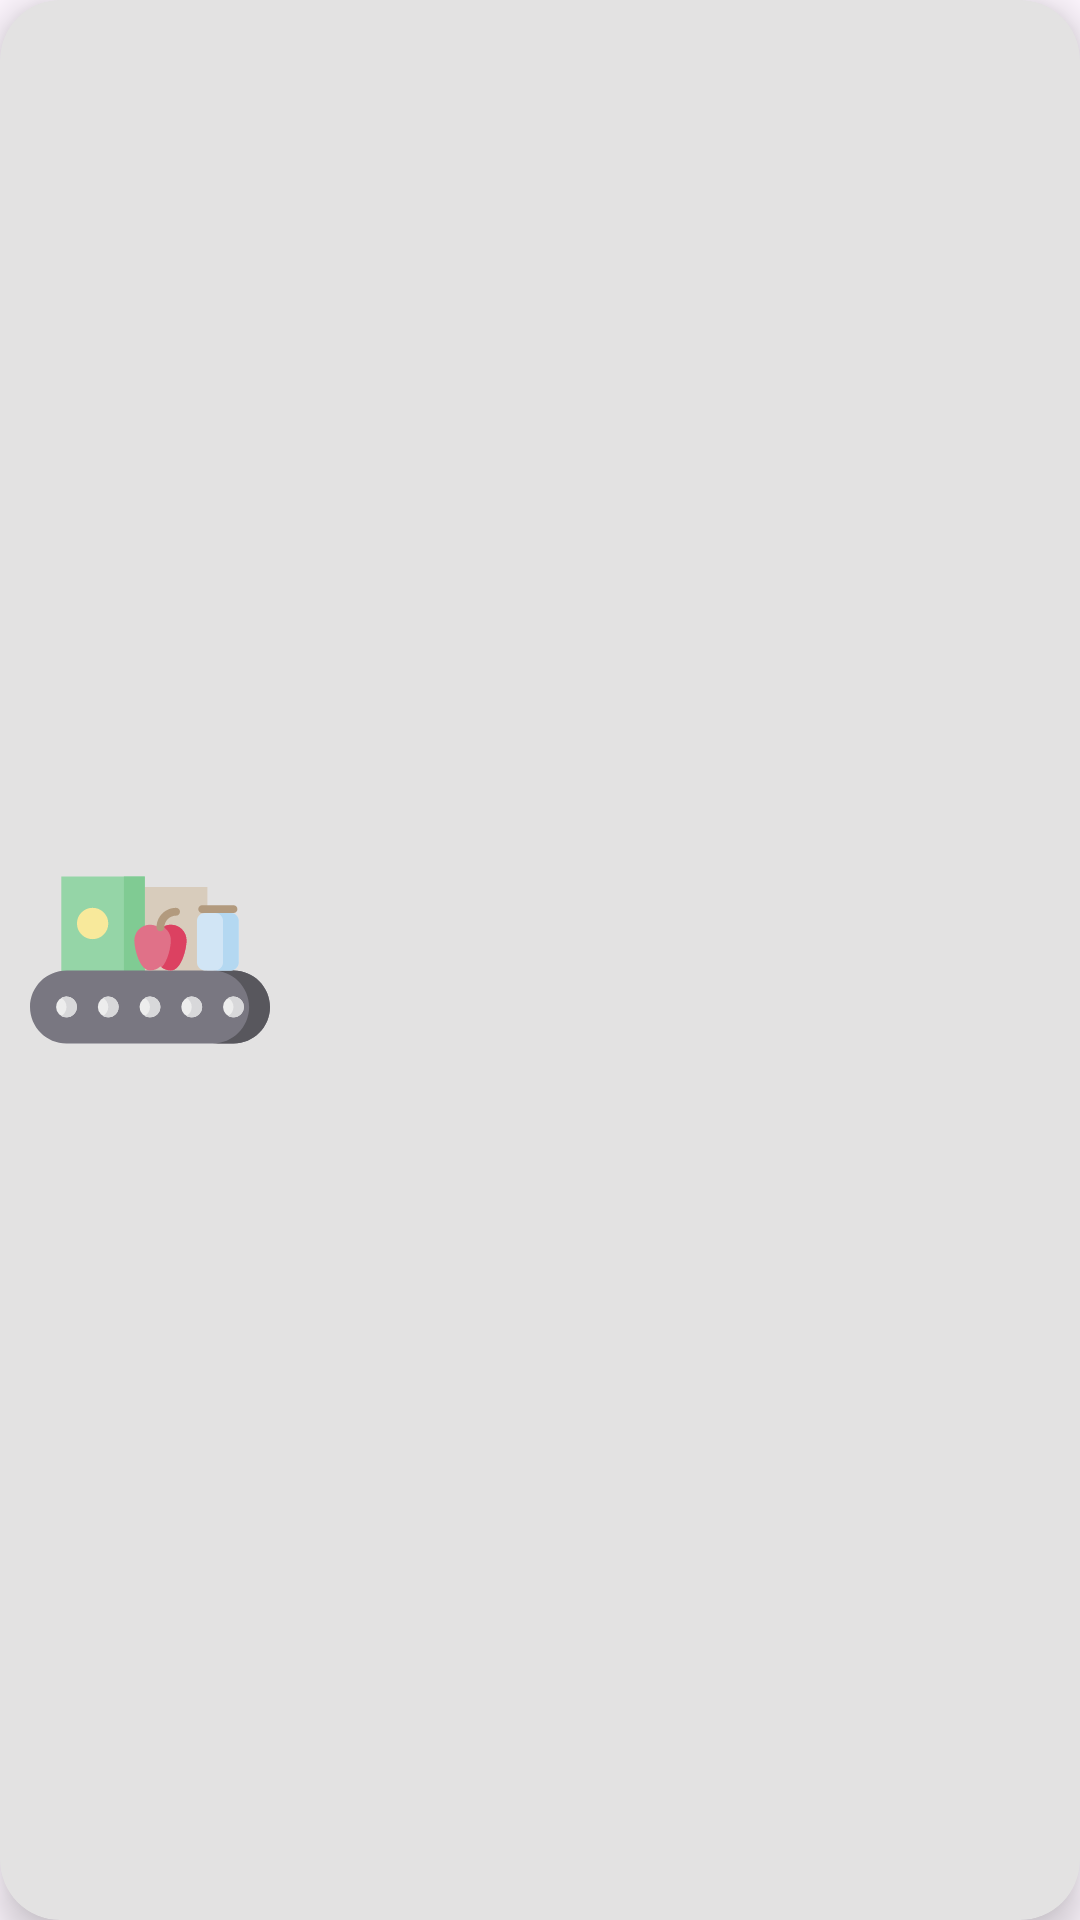

Point at icon controls on the screen. Image size 1080x1920, points as (x,y).
ikona elementa: (150,960)
